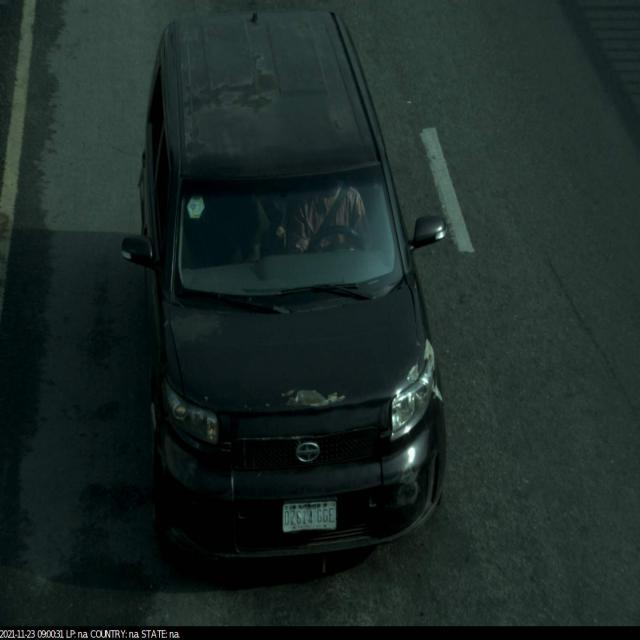windshield: (149, 154, 417, 326)
